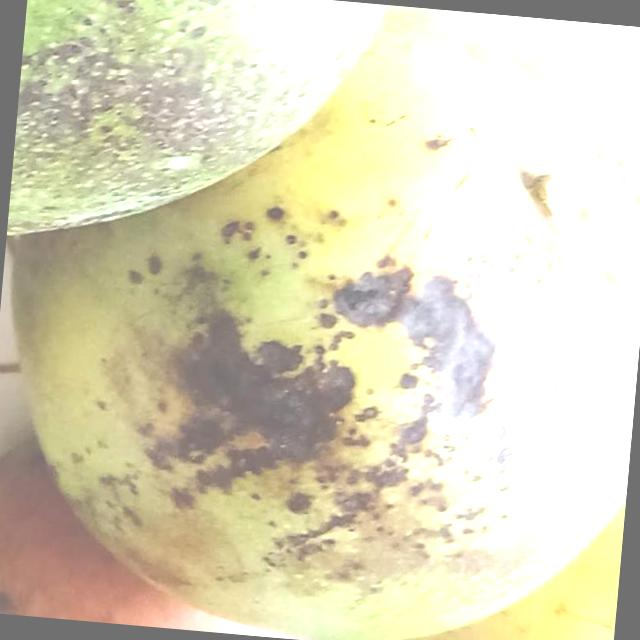Mango: (0, 0, 640, 640), (6, 0, 395, 271)
